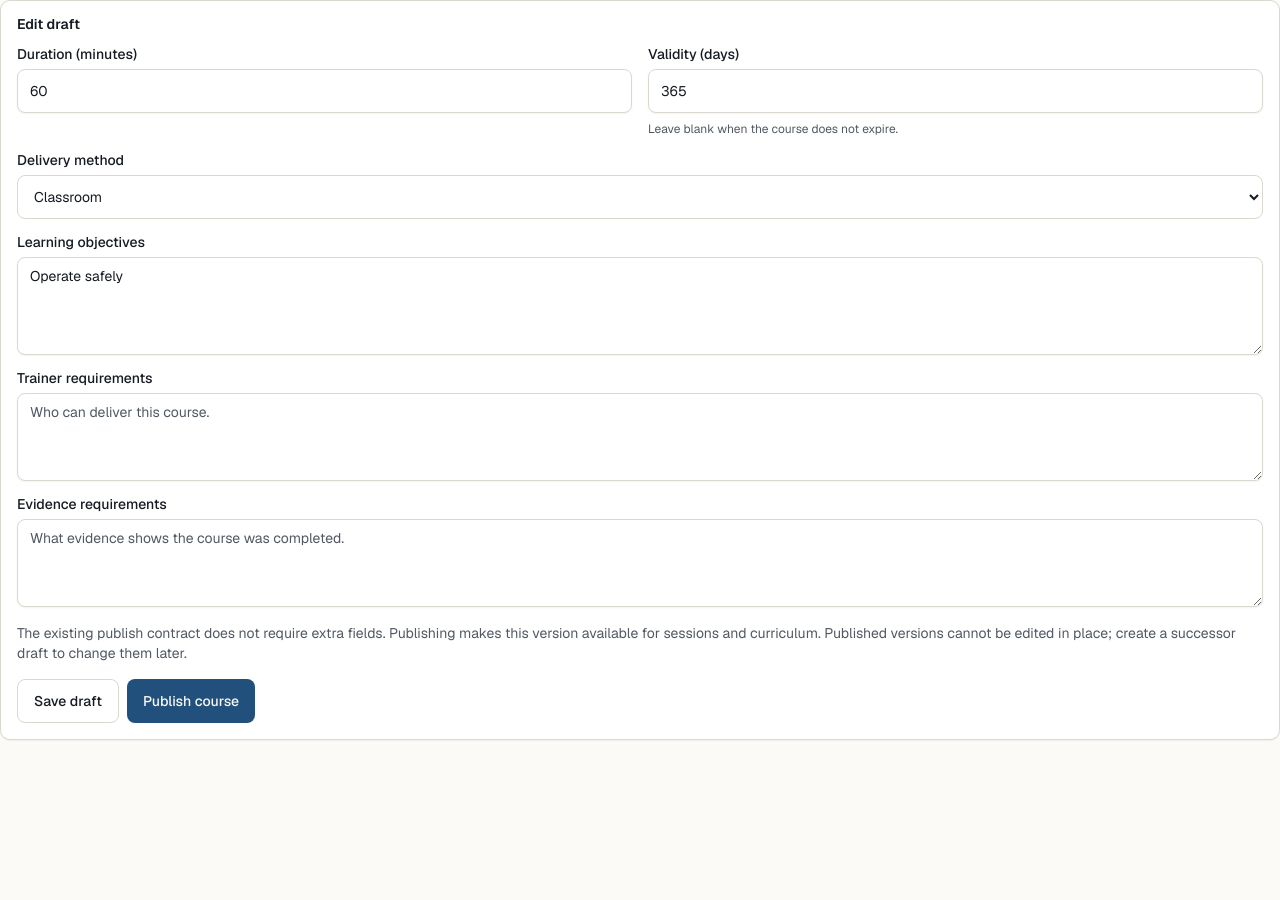
Test: CourseDraftEditor › saves draft values and keeps them when the server rejects the update
Replace the text in the text box with test id "training-course-objectives-input" with "Inspect the forklift first" at (640, 306), box [17,257,1263,355]
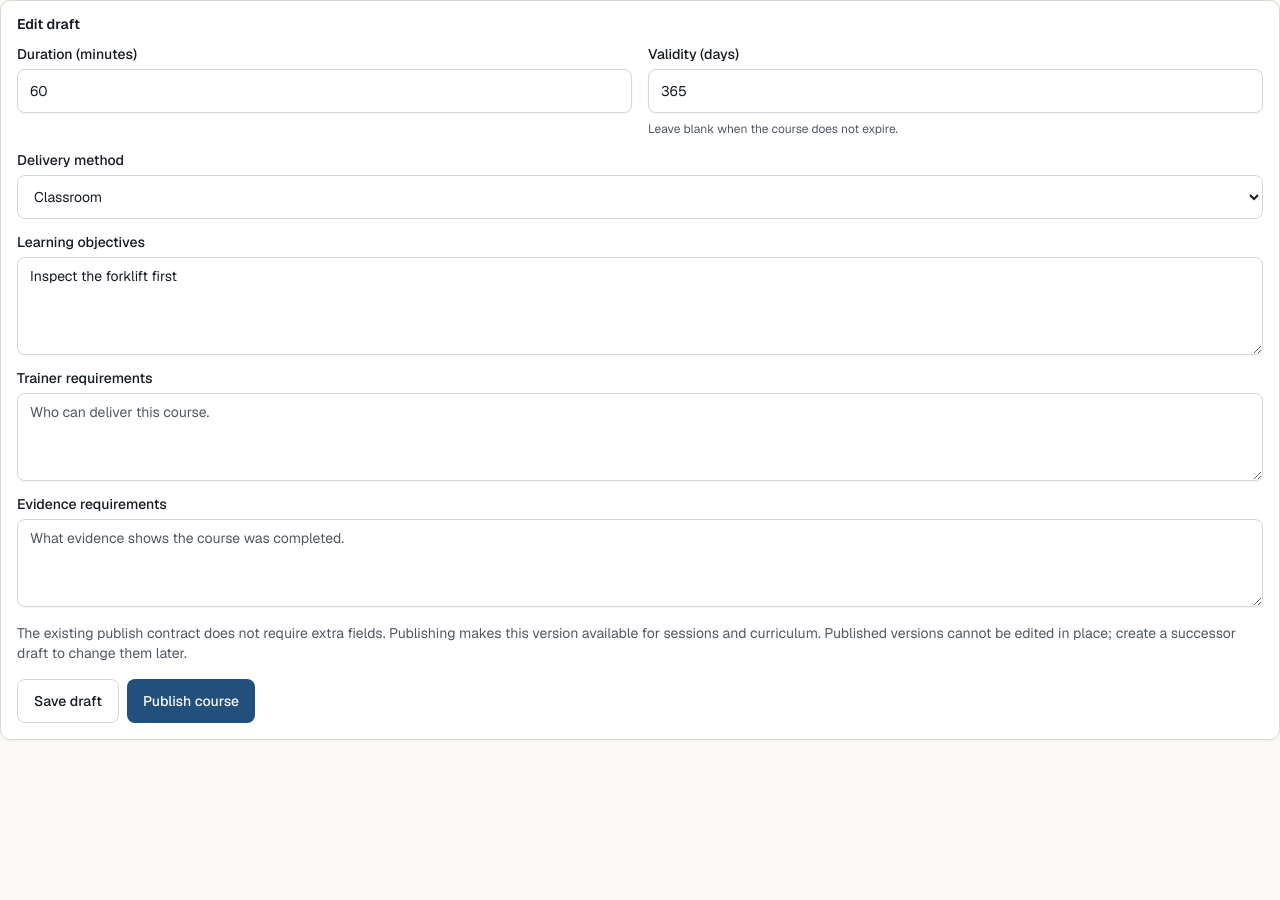
Click the button with test id "training-course-save-draft".
click(68, 701)  # box [17,679,119,723]
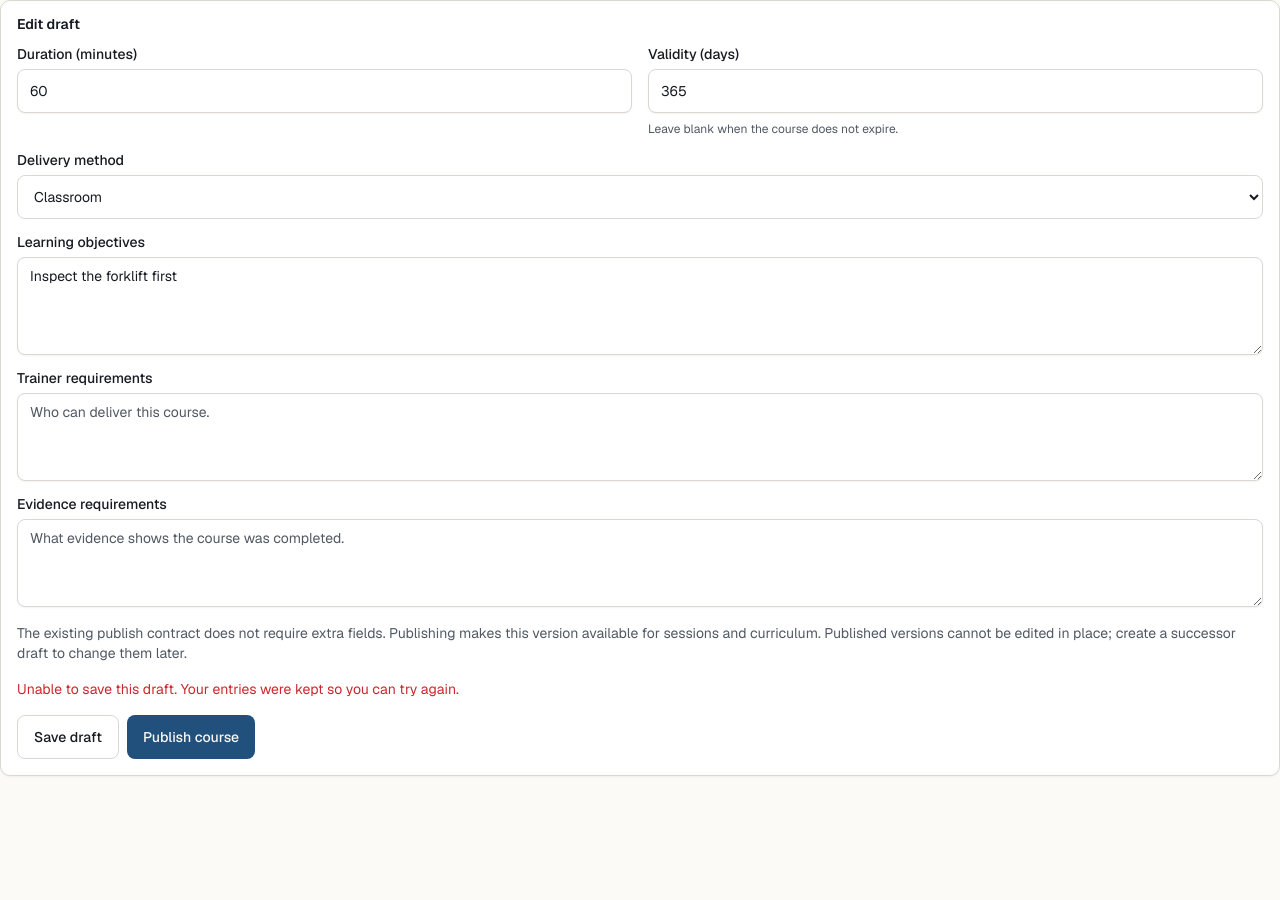
Expected: the message "Unable to save this draft. Your entries were kept so you can try again." is shown, [17,680,459,698]
